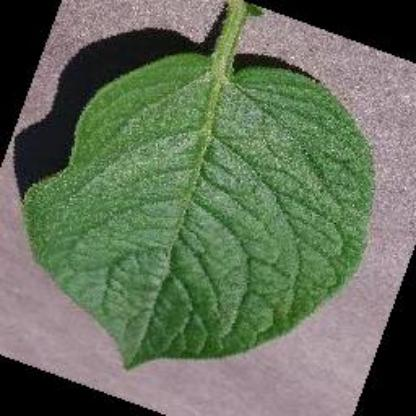Healthy-plant: (20, 0, 378, 366)
